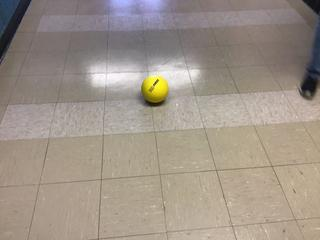power_cell: (138, 76, 169, 103)
